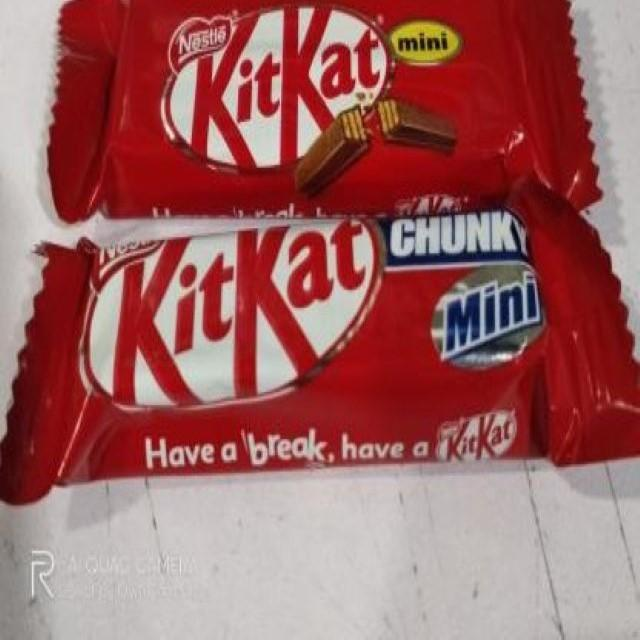kitkat_chocolate: (27, 220, 613, 493), (0, 0, 588, 203)
